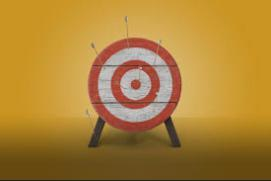target_red: (87, 36, 182, 132)
